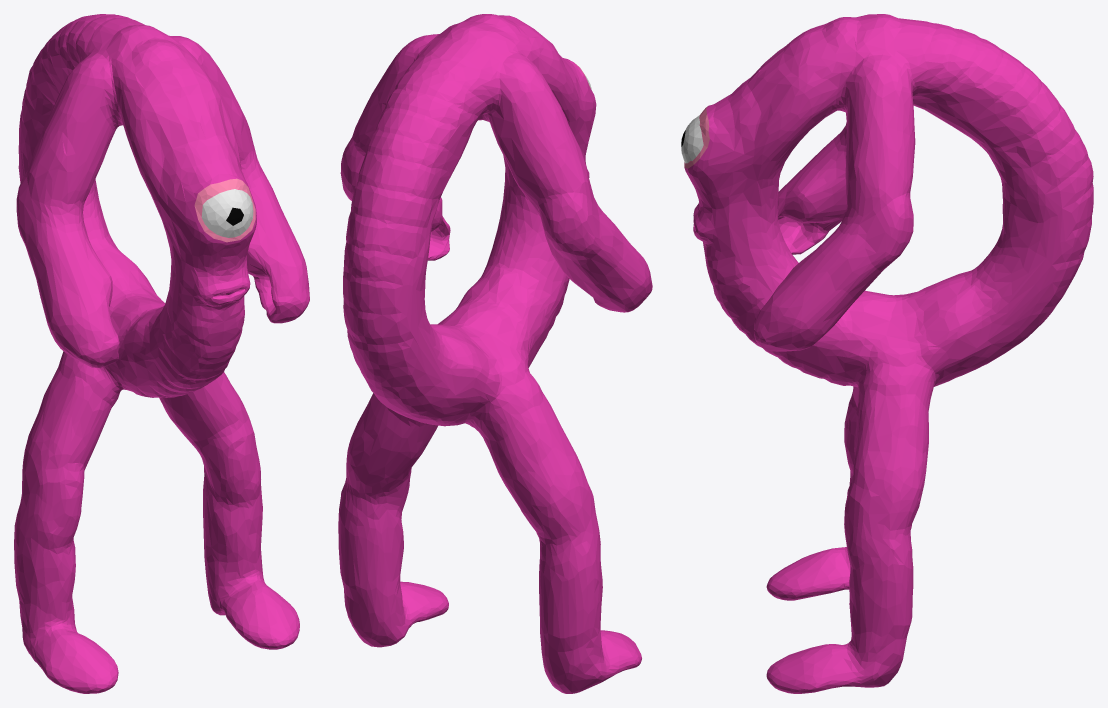
The model's file is WheelAlien.fbx.
3 renders of one model, left to right at view 1: azimuth 30°, elevation 25°; view 2: azimuth 150°, elevation 25°; view 3: azimuth 270°, elevation 25°, orthographic. The views are drawn at different scales.
Visible parts, largest first — view 1: WheelAlien; view 2: WheelAlien; view 3: WheelAlien.
Boxes of the visible parts, <box> form: WheelAlien: <box>14,14,309,693</box>; WheelAlien: <box>338,14,652,693</box>; WheelAlien: <box>681,14,1093,693</box>.
Bounding box in the file's own units: 78.36 × 56.82 × 131.
